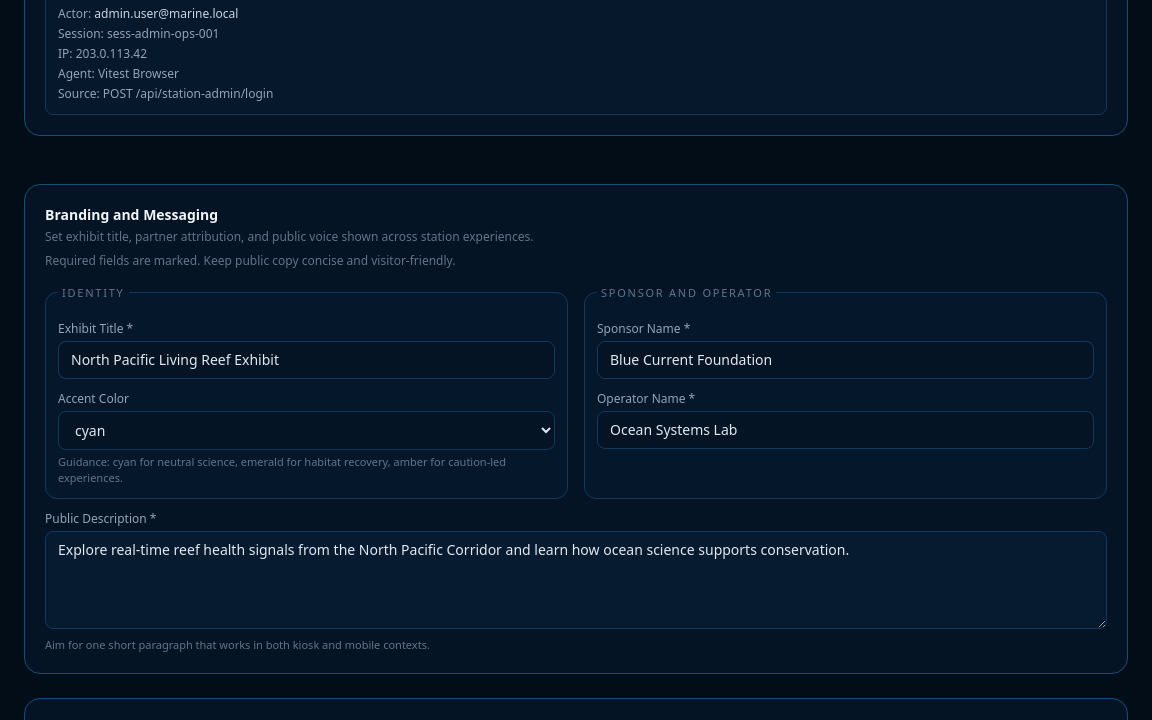
Test: station admin workspace shows unsaved changes after form edits
The width and height of the screenshot is (1152, 720).
(page scrolled)
Expected: the text "You have unsaved changes." is not shown
Replace the text in the field labelled "Exhibit Title *" with "Updated Exhibit" at [306, 360], box left=58, top=341, right=555, bottom=379
(page scrolled)
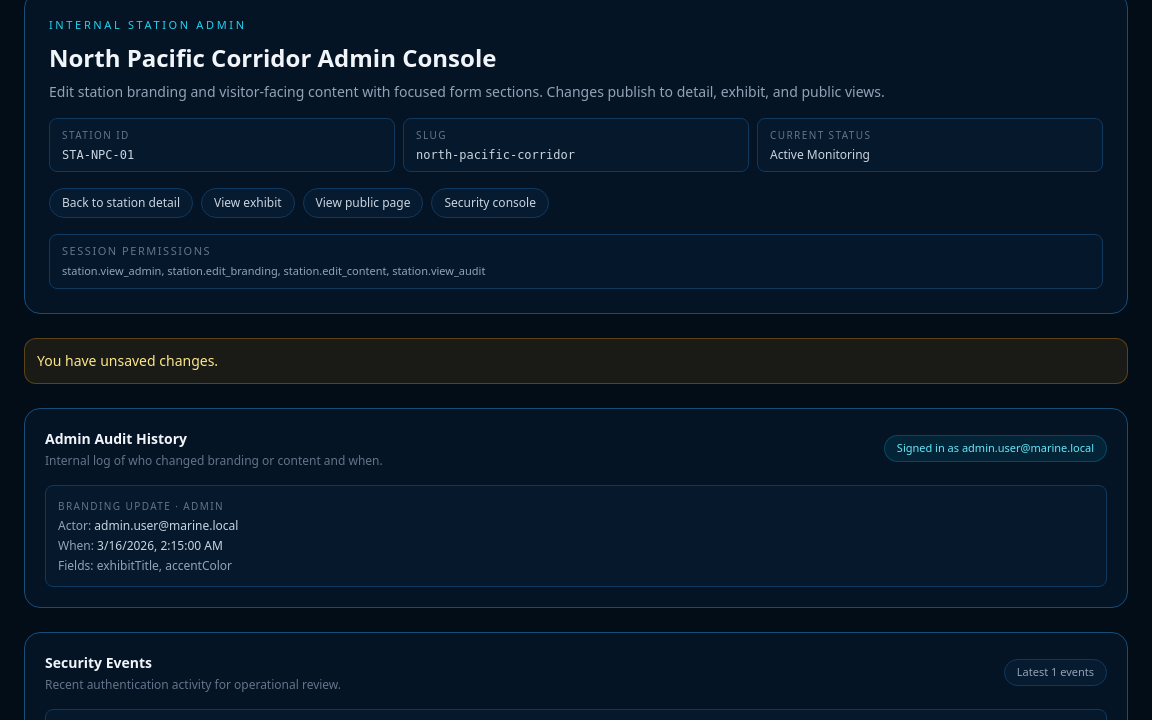
Result: the text "You have unsaved changes." is shown at left=24, top=338, right=1128, bottom=384
